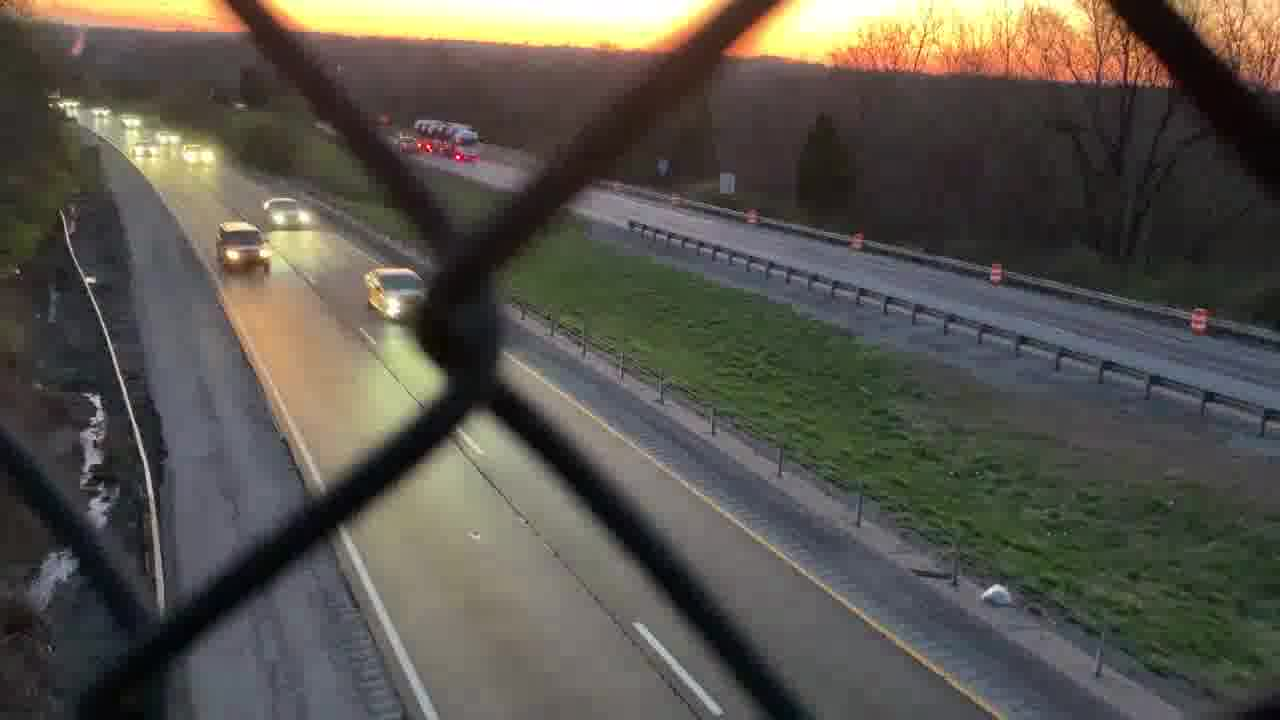largeCar: (211, 219, 276, 280)
smallCar: (356, 265, 424, 323), (262, 197, 317, 240)
